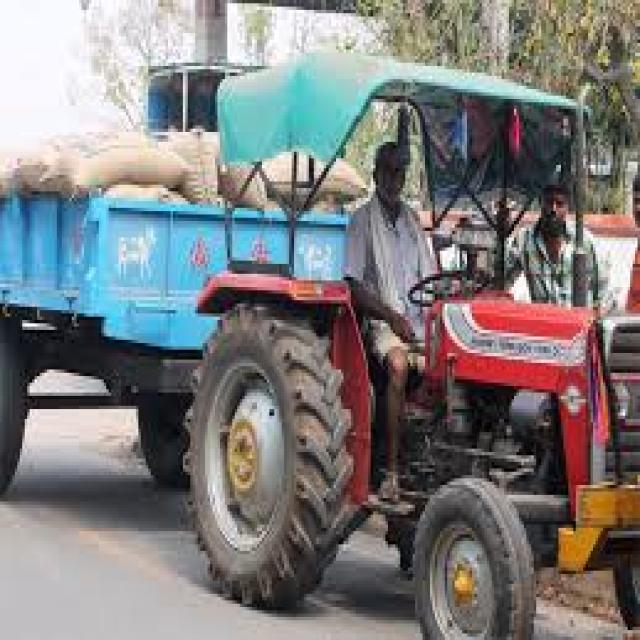person: (346, 142, 435, 501), (507, 188, 596, 307)
tractor: (0, 53, 638, 637)
